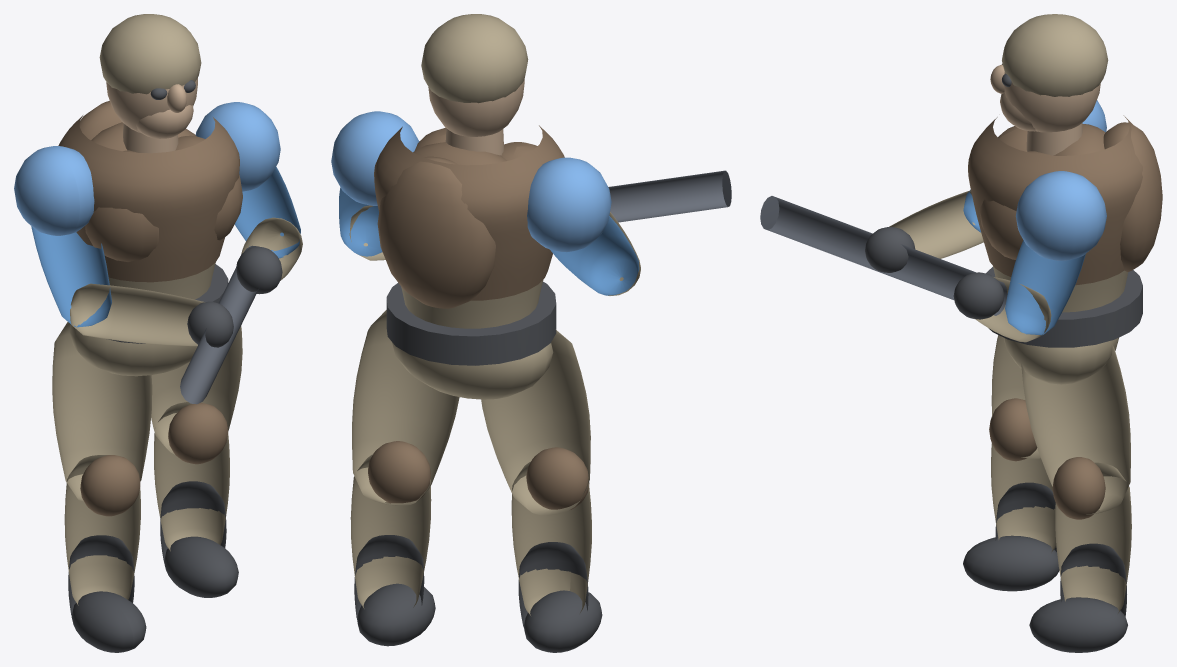
File: ccomand.glb
The picture shows the model from 3 angles, left to right: view 1: azimuth 30°, elevation 25°; view 2: azimuth 150°, elevation 25°; view 3: azimuth 270°, elevation 25°; orthographic projection. The views are drawn at different scales.
Visible parts, largest first — view 1: Hull; view 2: Hull; view 3: Hull.
Boxes of the visible parts, x1=… form: Hull: x1=14, y1=14, x2=302, y2=652; Hull: x1=331, y1=14, x2=731, y2=652; Hull: x1=760, y1=14, x2=1162, y2=652.
Size of the model in its own units: 0.4343 by 0.94 by 0.5716.
